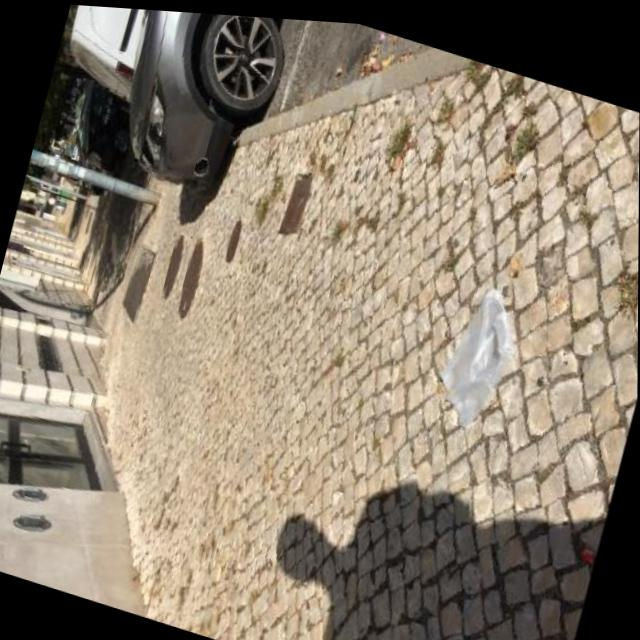plastic: (430, 276, 530, 438)
